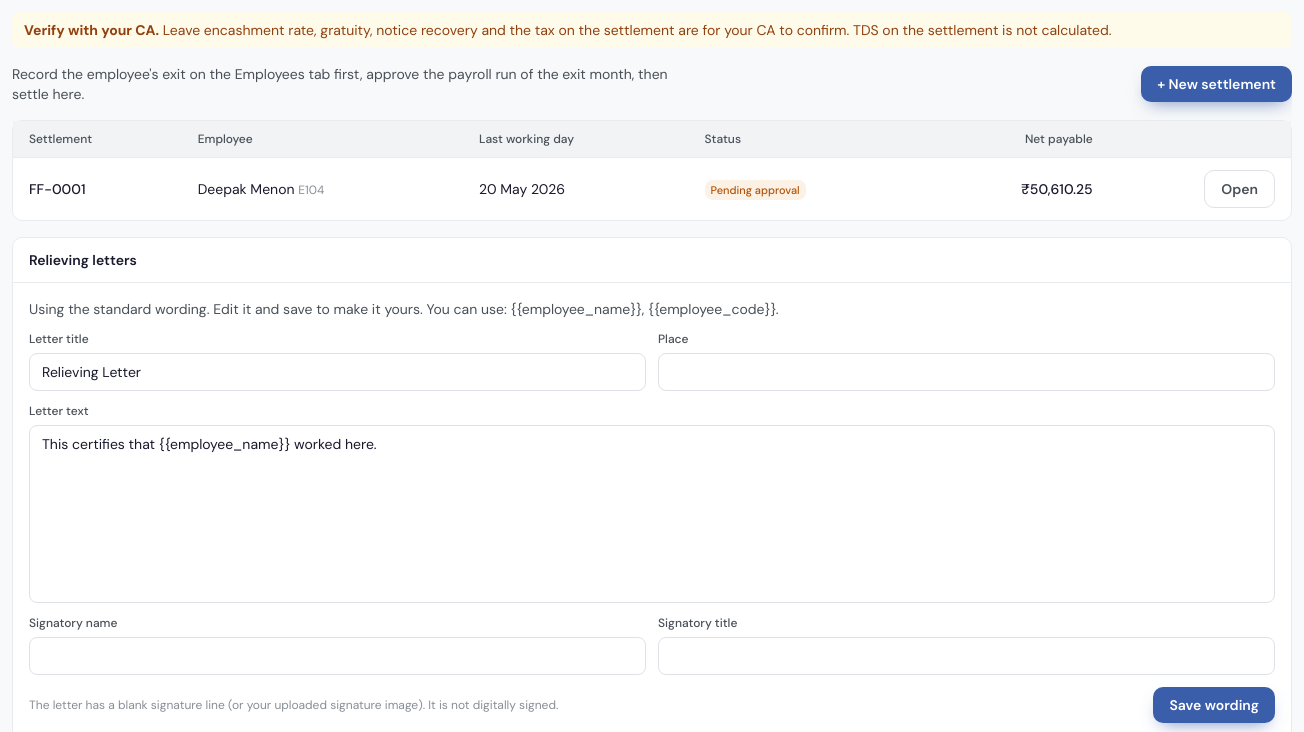
it: FnfTab › the input form is only for a draft
The image size is (1304, 732).
Click the button "Open". click: (1240, 189)
box: [1204,170,1275,208]
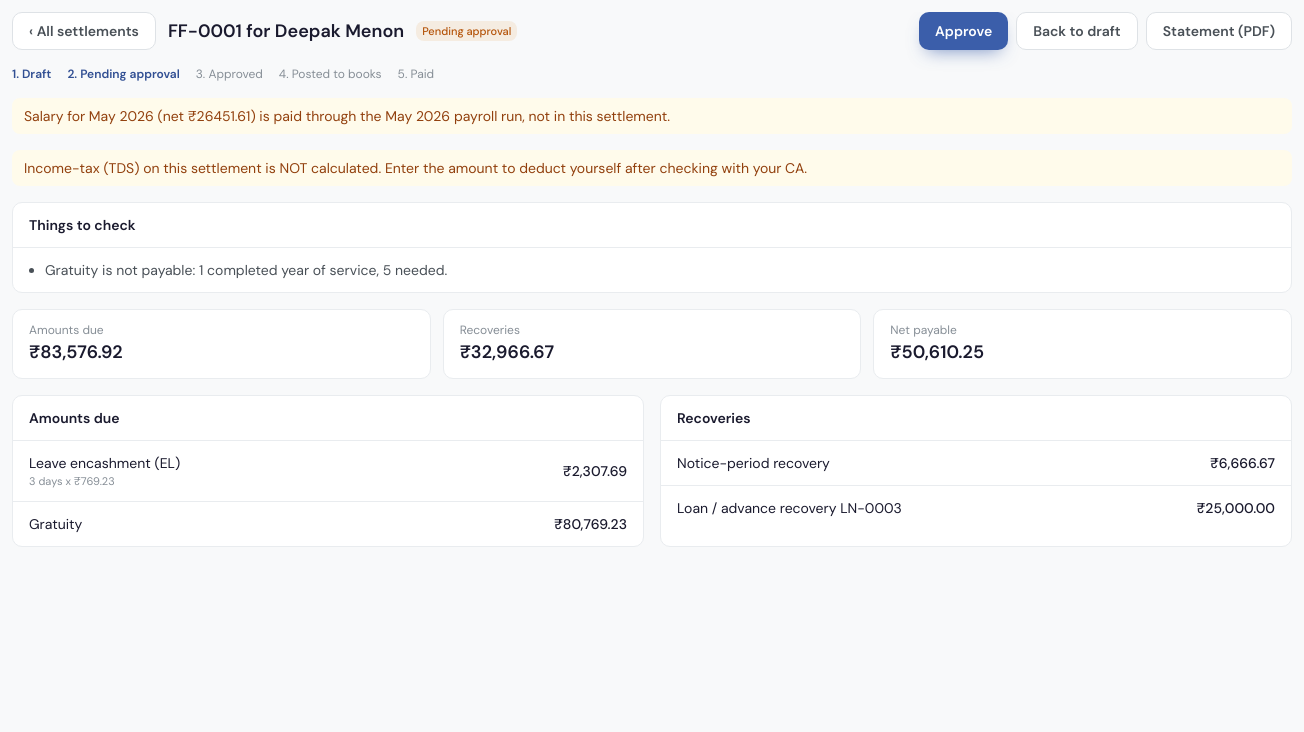
Check: the button "Back to draft" is shown, box [1016,12,1138,50]
